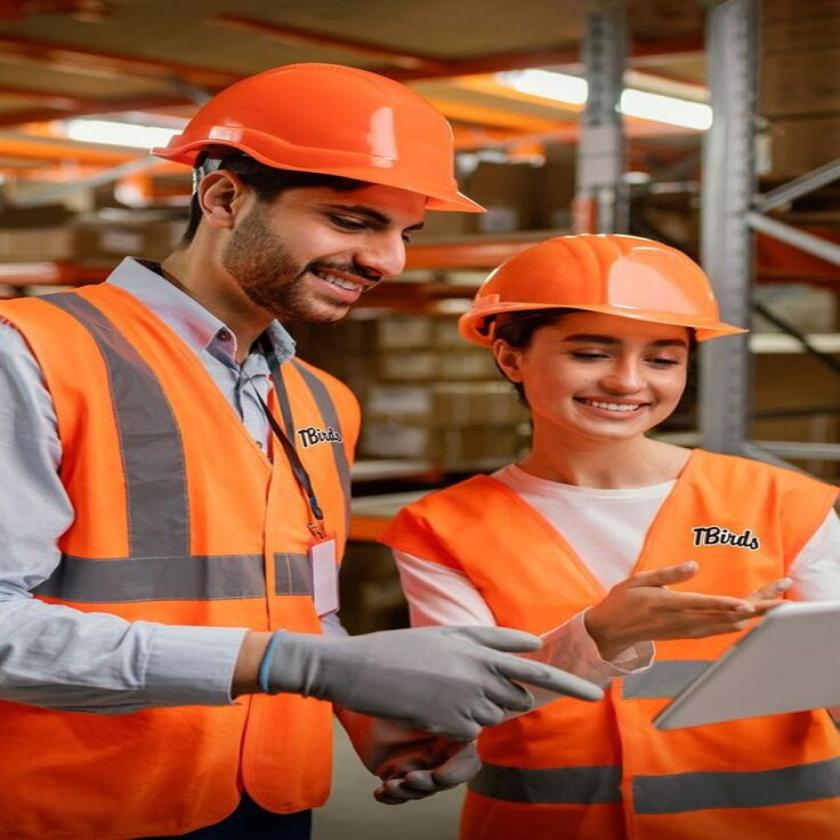Con_casco: (160, 61, 489, 330), (457, 231, 751, 475)
